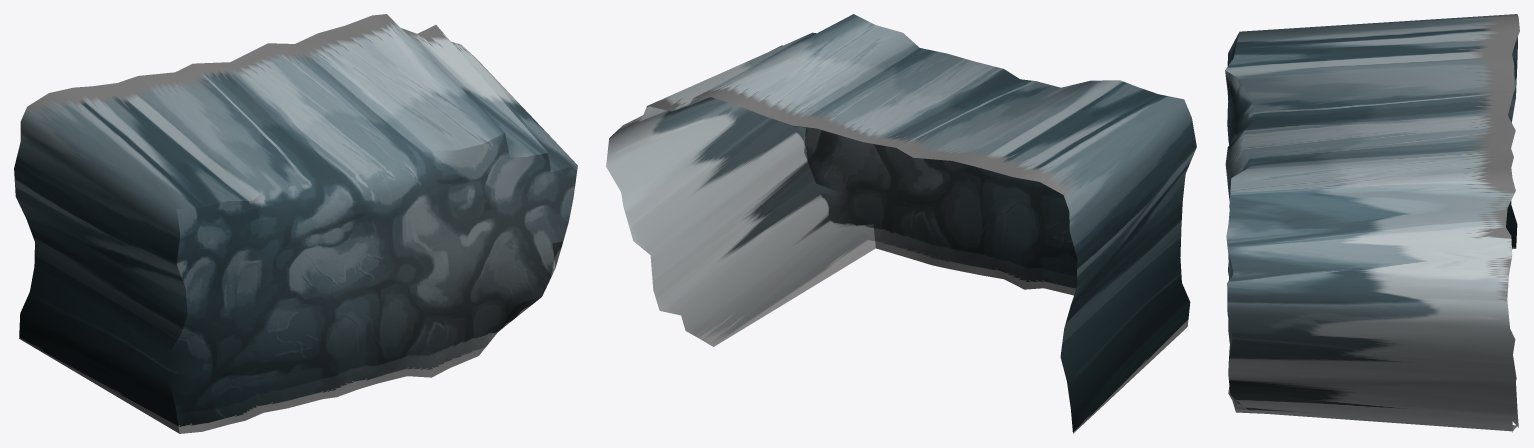
File: iseki_C.fbx
3 renders of one model, left to right at view 1: azimuth 30°, elevation 25°; view 2: azimuth 150°, elevation 25°; view 3: azimuth 270°, elevation 25°, orthographic. The views are drawn at different scales.
Visible parts, largest first — view 1: B1; view 2: B1; view 3: B1.
Boxes of the visible parts, x1,y1,x2,y2 form: B1: [14, 14, 577, 433]; B1: [606, 14, 1196, 433]; B1: [1225, 14, 1519, 432].
Bounding box in the file's own units: 48.81 × 24.72 × 26.02.
